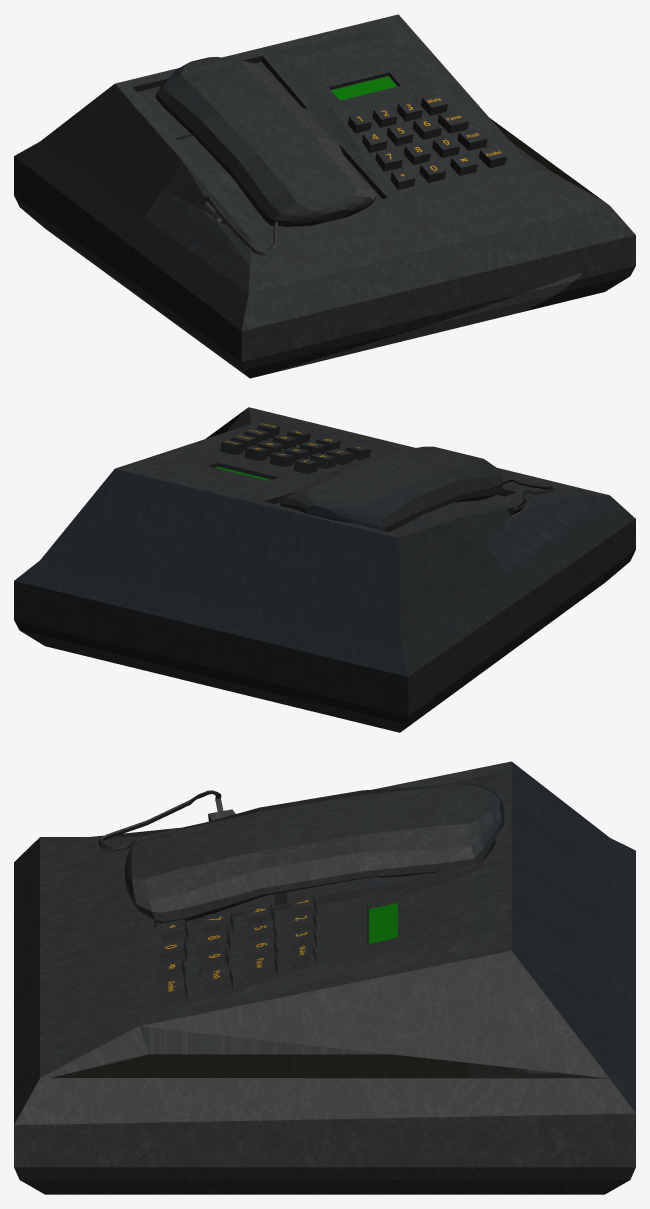
Rendered from Telephone.fbx.
3 views of the same model, one above another, from view 1: azimuth 30°, elevation 25°; view 2: azimuth 150°, elevation 25°; view 3: azimuth 270°, elevation 25° (orthographic). The views are drawn at different scales.
Visible parts, largest first — view 1: Cube; view 2: Cube; view 3: Cube.
Boxes of the visible parts, left/top/right/bottom form: Cube: left=14, top=14, right=635, bottom=378; Cube: left=14, top=407, right=635, bottom=732; Cube: left=14, top=761, right=635, bottom=1194.
Size of the model in its own units: 2.04 by 0.8406 by 2.04.
1 material, 1 textured.
